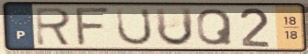2: (239, 7, 271, 49)
F: (75, 6, 114, 47)
Q: (195, 7, 234, 47)
R: (34, 6, 74, 47)
U: (153, 7, 195, 48), (115, 6, 155, 47)
